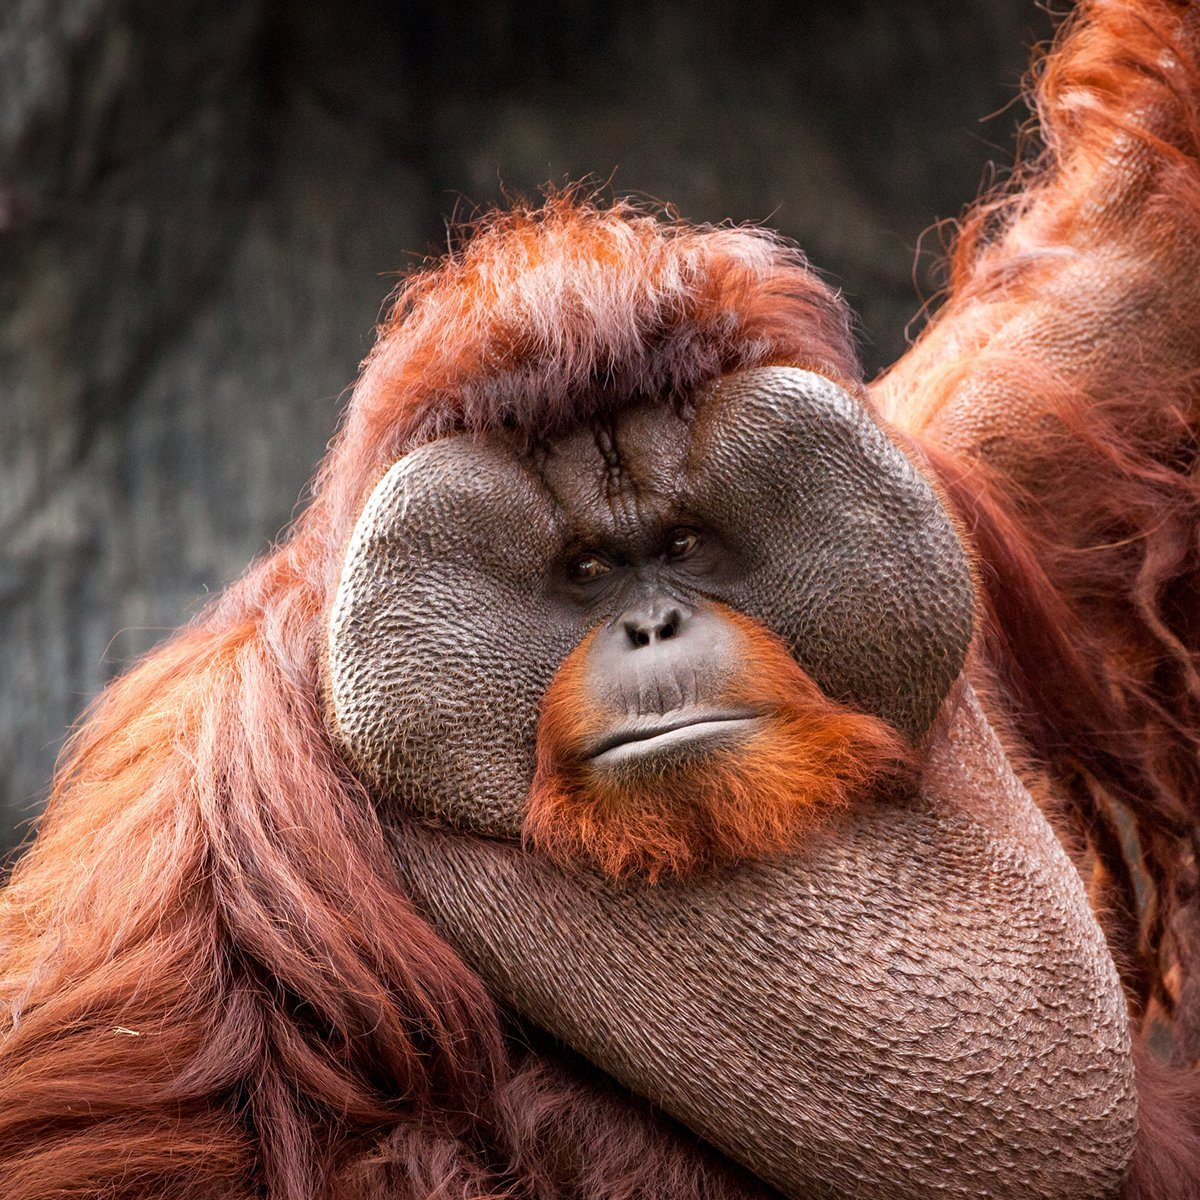Orangutan: (212, 298, 1120, 1163)
